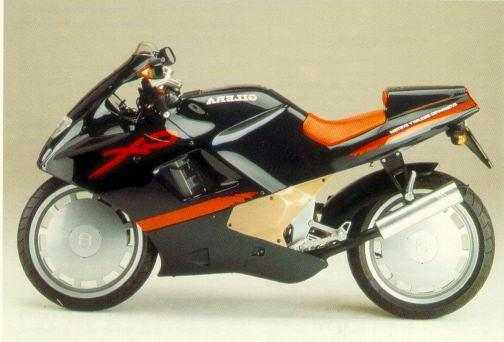motorcycle: (8, 38, 504, 325)
